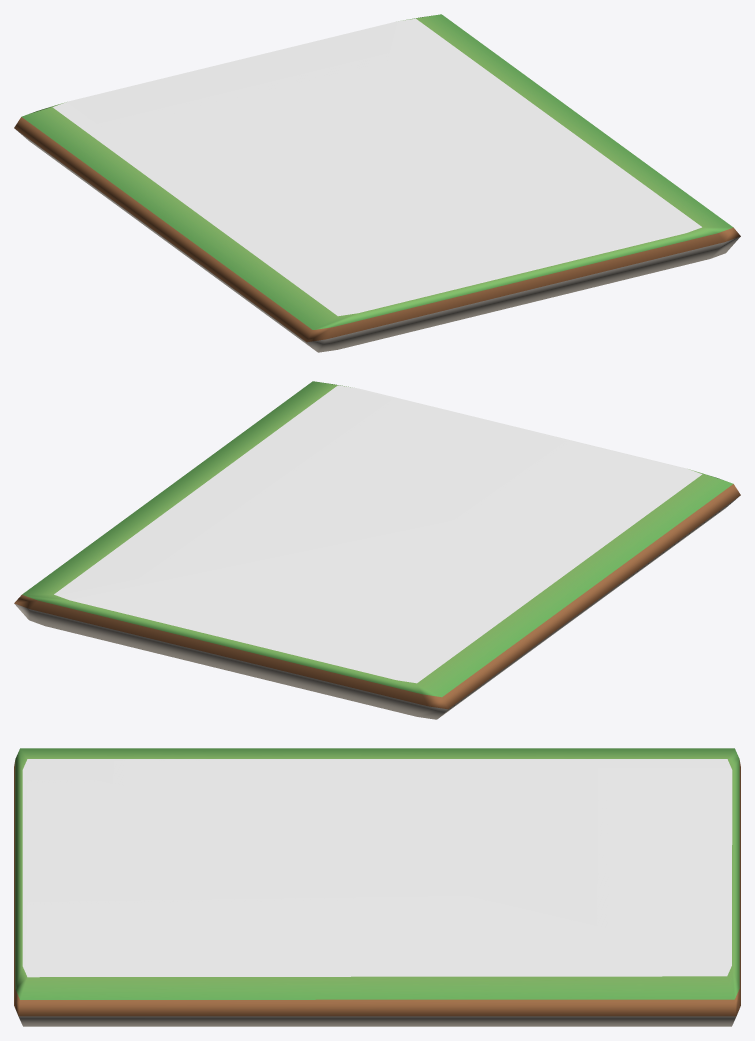
File: finish.fbx
3 views of the same model, one above another, from view 1: azimuth 30°, elevation 25°; view 2: azimuth 150°, elevation 25°; view 3: azimuth 270°, elevation 25° (orthographic). The views are drawn at different scales.
Parts seen in each view (by area): view 1: pCube26; view 2: pCube26; view 3: pCube26.
Boxes of the visible parts, x1,y1,x2,y2 form: pCube26: (14,14,740,352); pCube26: (14,381,740,719); pCube26: (14,748,740,1026).
Bounding box in the file's own units: 70.28 × 4.62 × 83.12.
